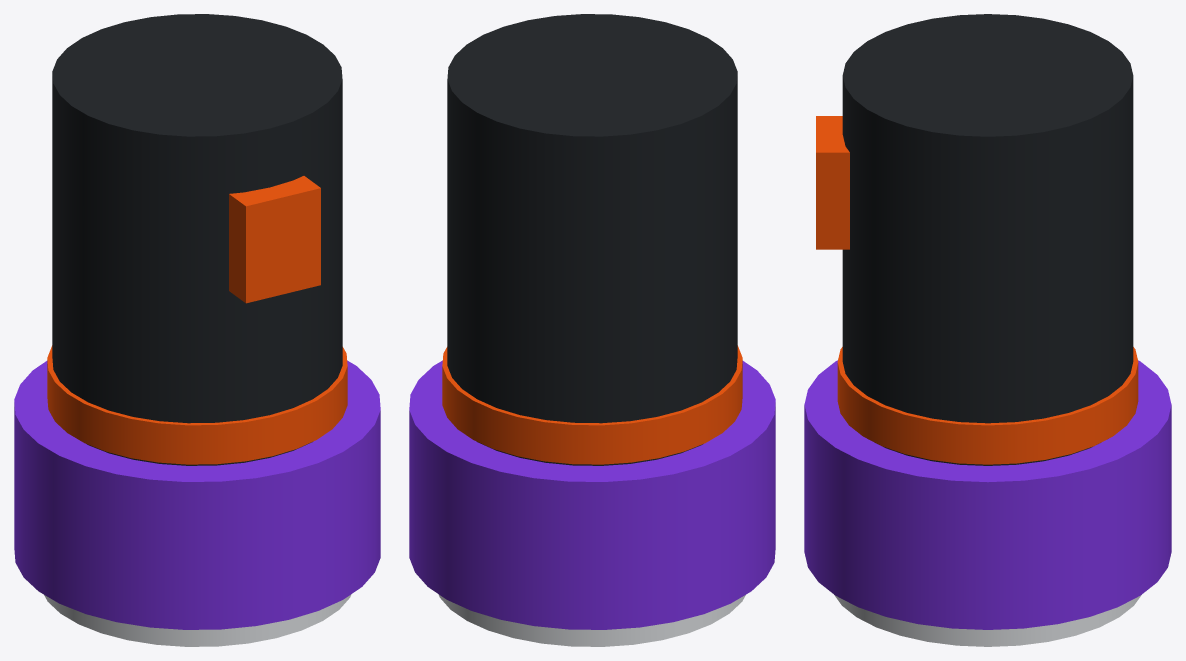
File: torch.glb
3 renders of one model, left to right at view 1: azimuth 30°, elevation 25°; view 2: azimuth 150°, elevation 25°; view 3: azimuth 270°, elevation 25°, orthographic.
Bounding box in the file's own units: 0.144 × 0.2185 × 0.144.
